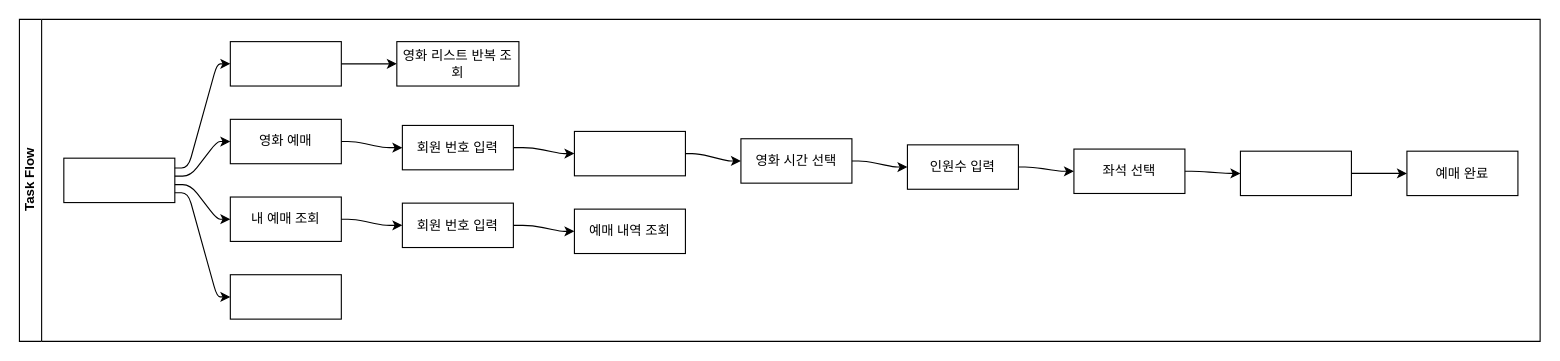
Image size: 1560x361. Some labels were removed from this diagram. Here are the shapes that lost their labels. From the top down, the box of each, then its label:
(229, 41, 341, 86): 영화 조회
(573, 130, 685, 176): 영화 번호 선택
(1239, 150, 1351, 196): 쿠폰 선택
(63, 157, 175, 203): Start
(229, 274, 341, 319): 나가기
